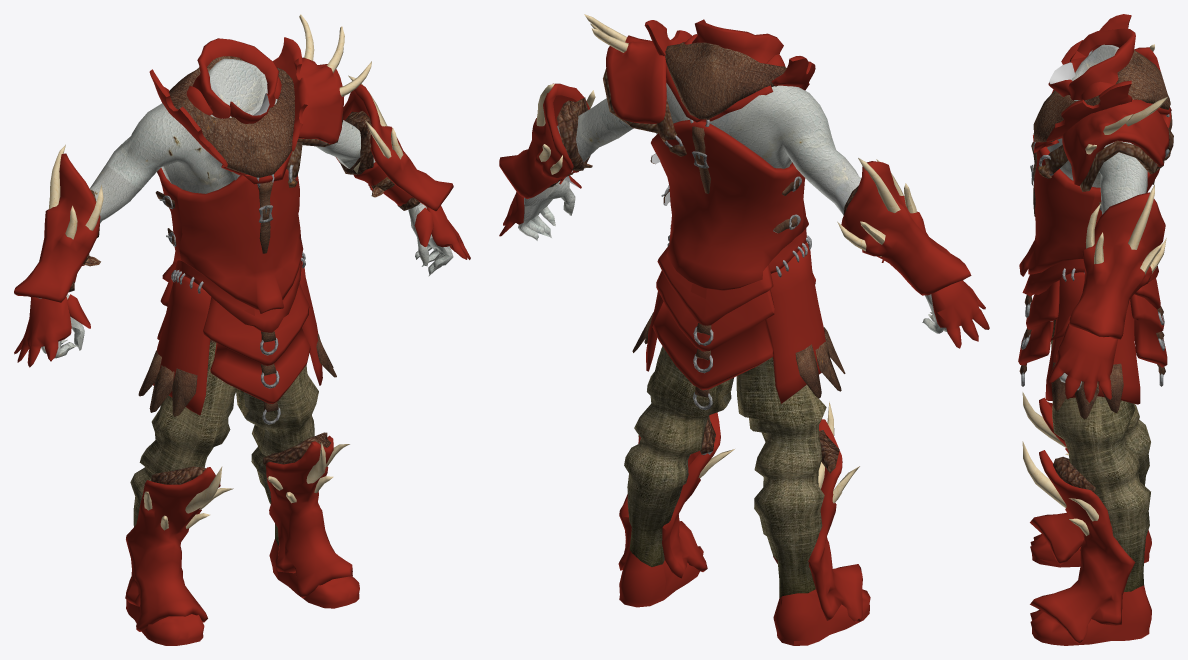
The model's file is armor.fbx.
The picture shows the model from 3 angles, left to right: view 1: azimuth 30°, elevation 25°; view 2: azimuth 150°, elevation 25°; view 3: azimuth 270°, elevation 25°; orthographic projection. The views are drawn at different scales.
Parts seen in each view (by area): view 1: LOTR_MODEL_1, Protecciones completas brazos; view 2: LOTR_MODEL_1, Protecciones completas brazos; view 3: LOTR_MODEL_1, Protecciones completas brazos.
Part boxes in pixels (<box>): LOTR_MODEL_1: <box>14,14,470,645</box>; Protecciones completas brazos: <box>14,75,453,302</box>; LOTR_MODEL_1: <box>499,14,989,645</box>; Protecciones completas brazos: <box>499,83,971,295</box>; LOTR_MODEL_1: <box>1018,14,1173,645</box>; Protecciones completas brazos: <box>1069,44,1166,339</box>.
Size of the model in its own units: 140 by 167 by 41.88.
